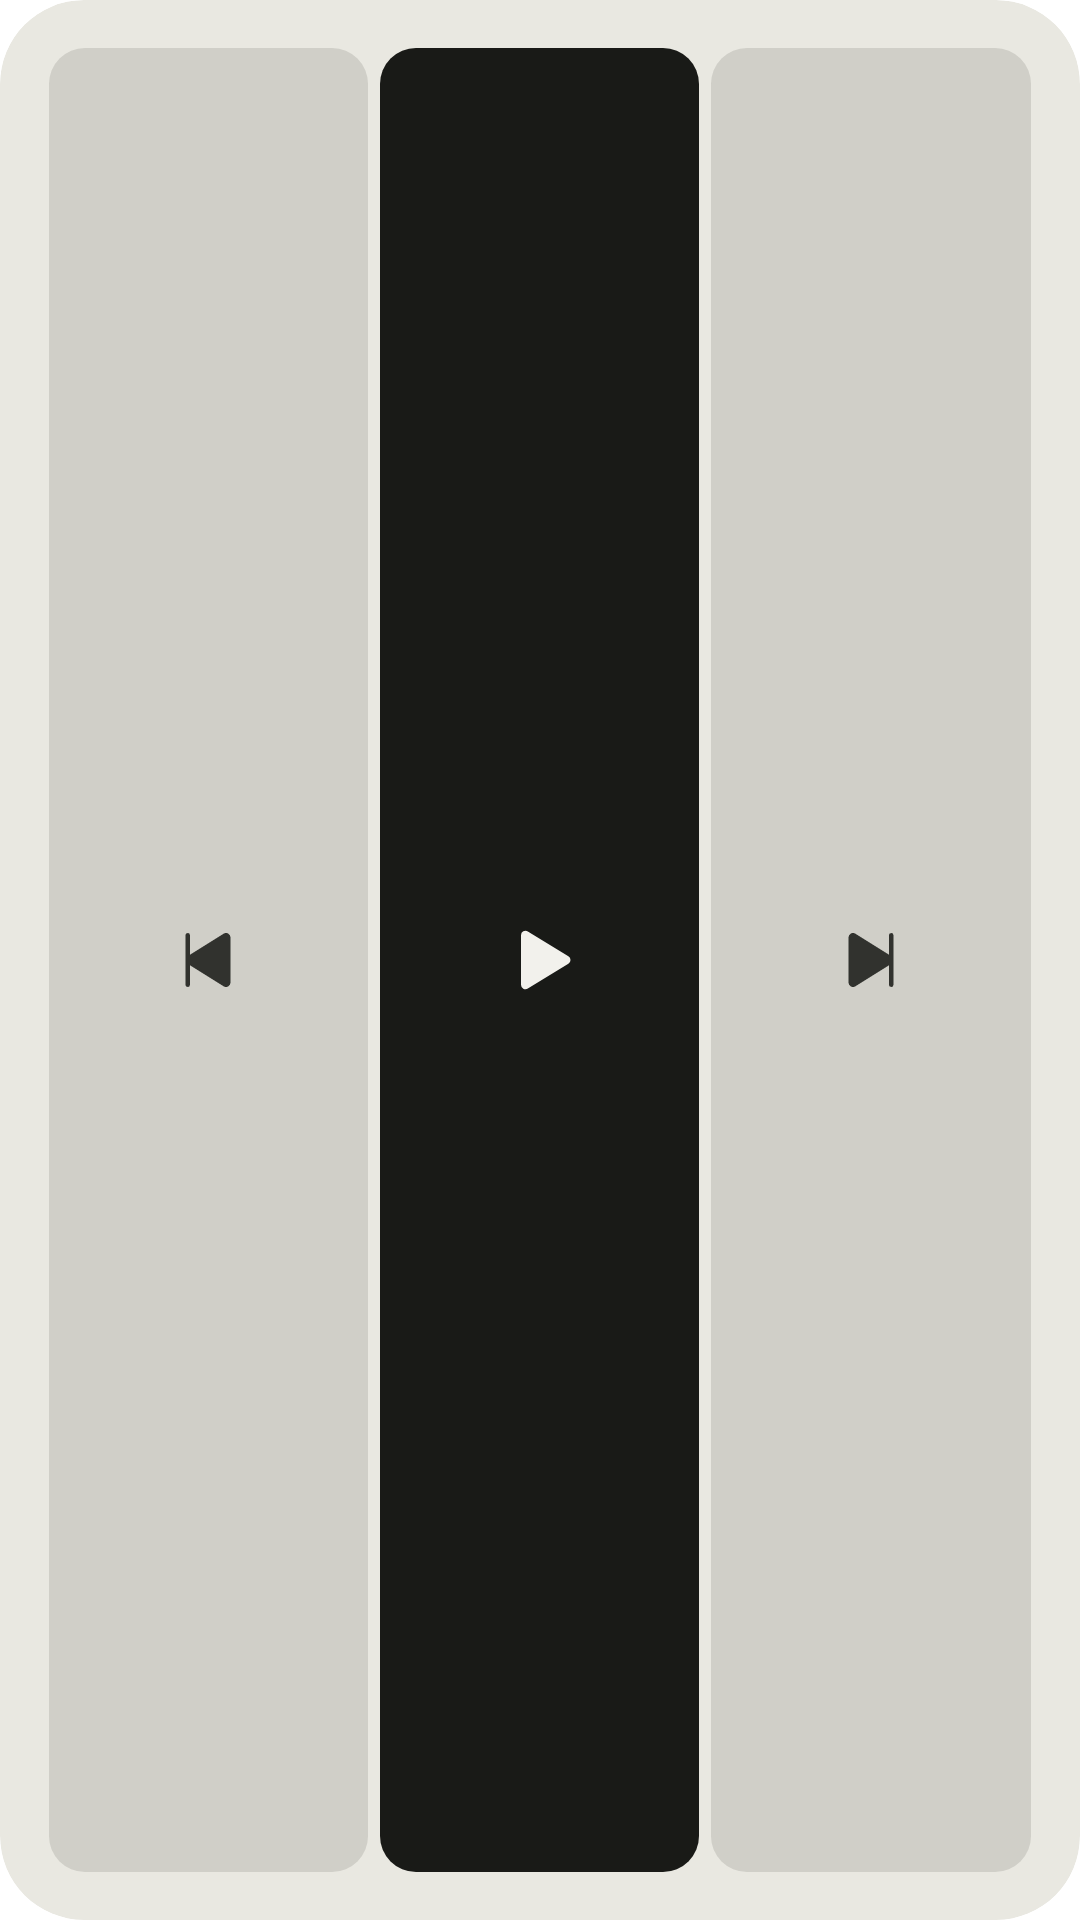

Named icons in this screenshot (1080 × 1920) and their bounding boxes, (left=x1, top=y1, right=x2, bottom=y2):
play: (left=521, top=930, right=571, bottom=990)
skip next: (left=848, top=933, right=894, bottom=987)
skip previous: (left=185, top=933, right=231, bottom=987)
